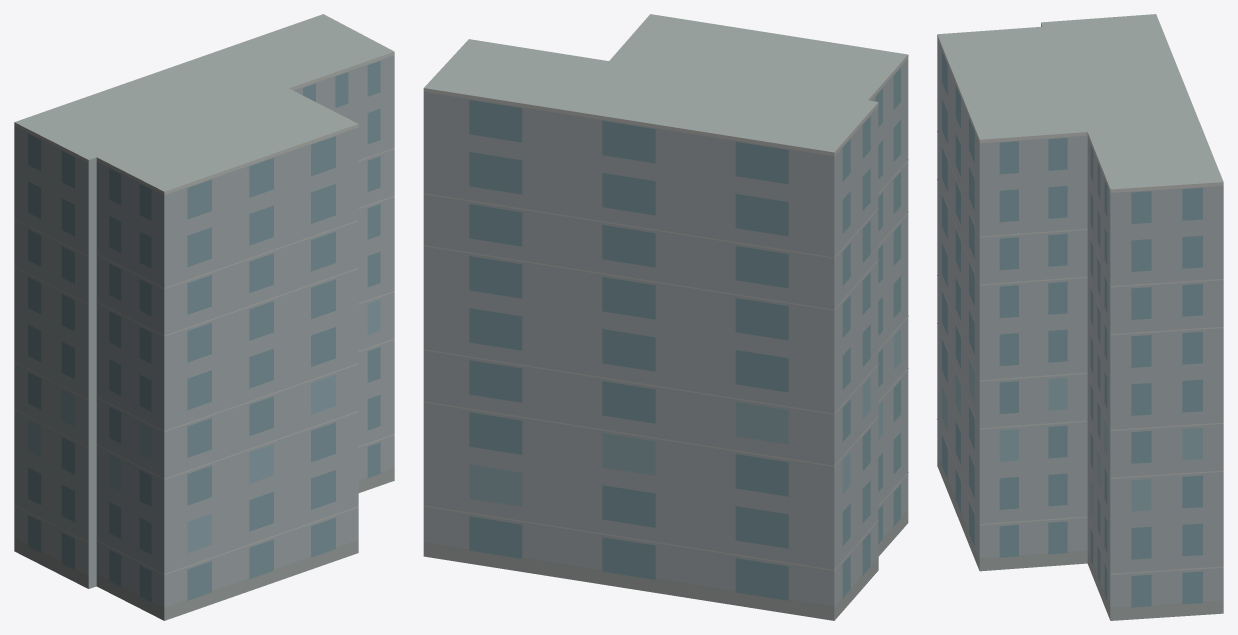
File: survey-upis-32787313.glb
The picture shows the model from 3 angles, left to right: view 1: azimuth 30°, elevation 25°; view 2: azimuth 150°, elevation 25°; view 3: azimuth 270°, elevation 25°; orthographic projection. The views are drawn at different scales.
Parts seen in each view (by area): view 1: survey-upis-32787313.tmp; view 2: survey-upis-32787313.tmp; view 3: survey-upis-32787313.tmp.
Boxes of the visible parts, bbox=[...] form: survey-upis-32787313.tmp: bbox=[14, 14, 394, 620]; survey-upis-32787313.tmp: bbox=[423, 14, 908, 620]; survey-upis-32787313.tmp: bbox=[937, 14, 1223, 620].
Size of the model in its own units: 26.45 by 30.3 by 18.26.
